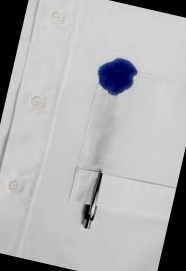ink: (94, 55, 139, 99)
